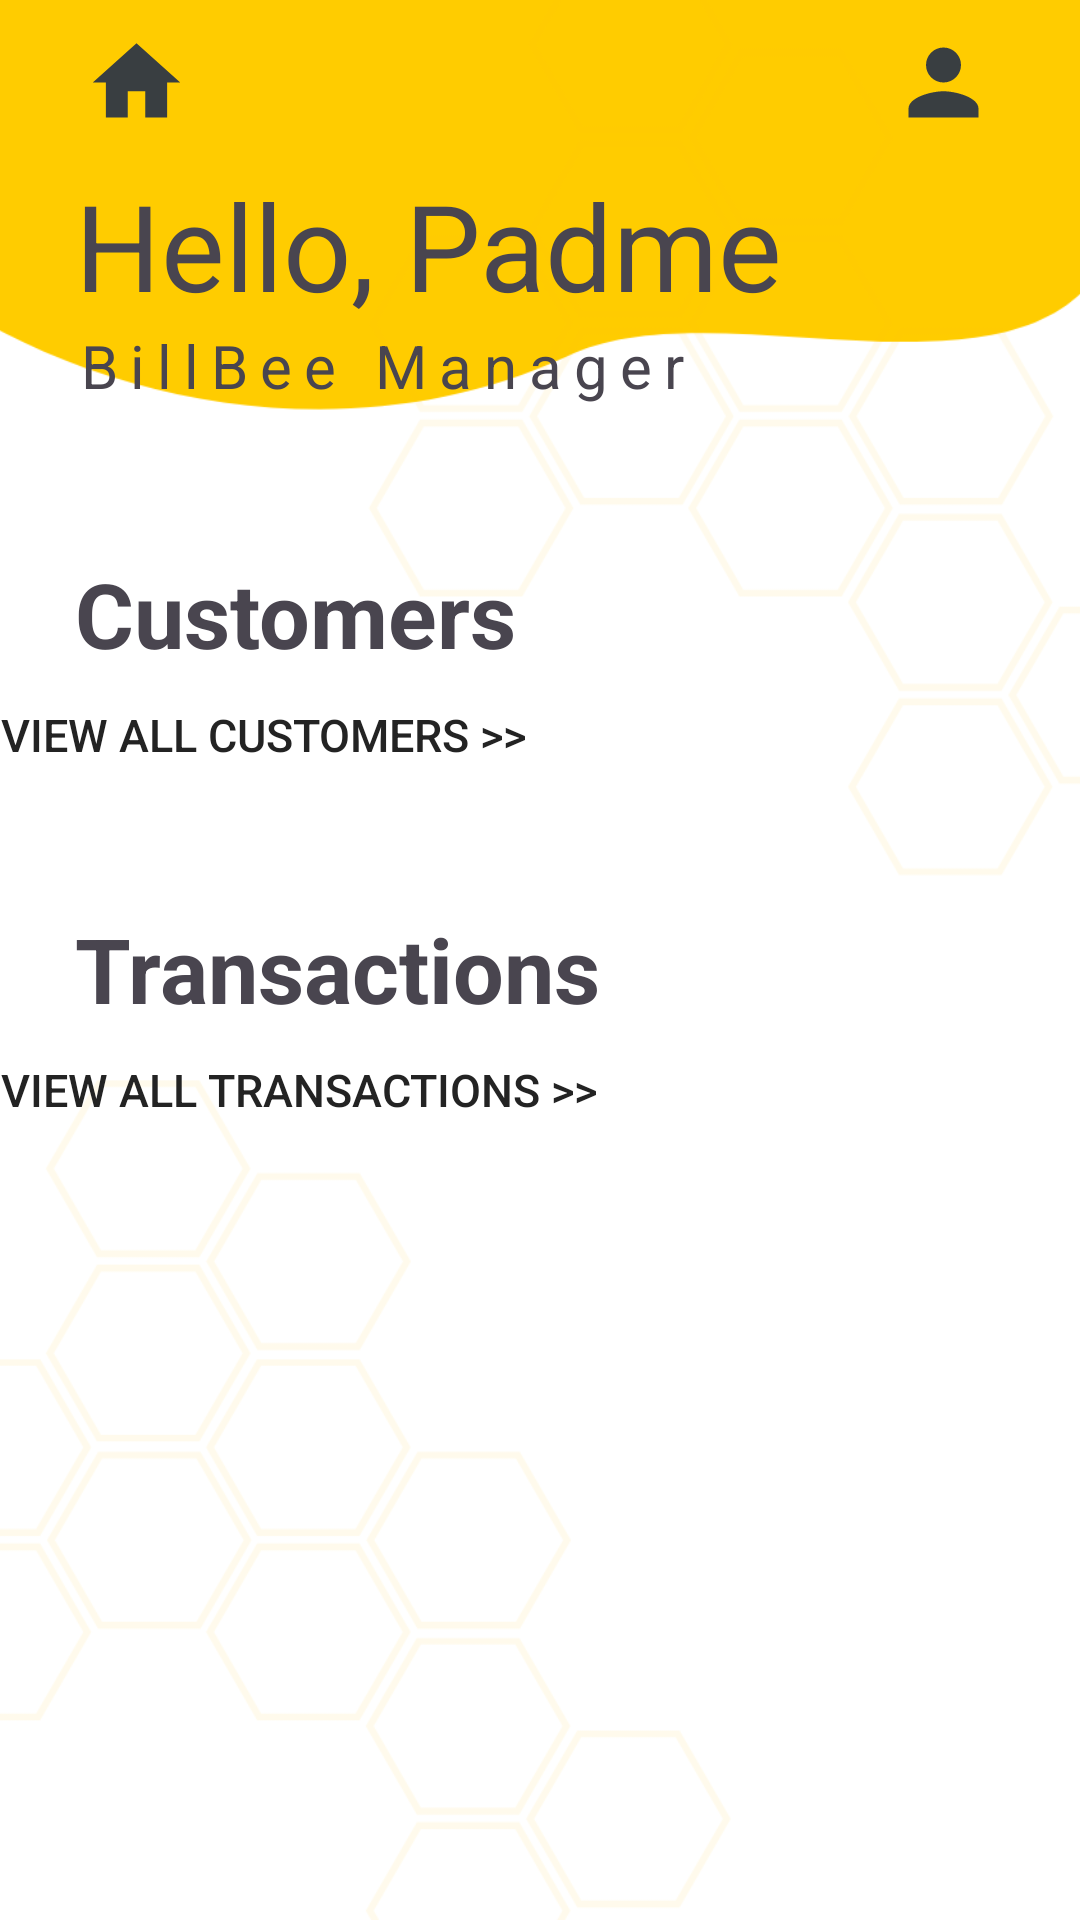

Screen size 1080px×1920px. Icon name, then its box in pixels as [left=x1, top=y1, right=x2, bottom=y2]:
home: [left=93, top=43, right=180, bottom=118]
person: [left=908, top=47, right=979, bottom=118]
